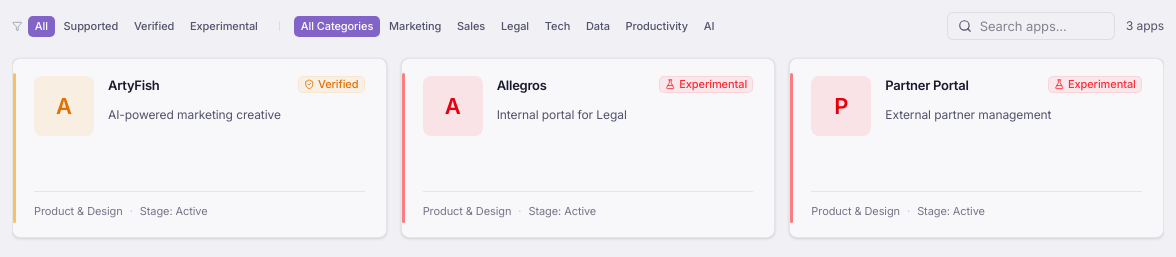
Test: AppBrowse › filters apps by tier
The image size is (1176, 257).
Click the button "Verified" at {"x": 154, "y": 26}, box [127,16,181,36]
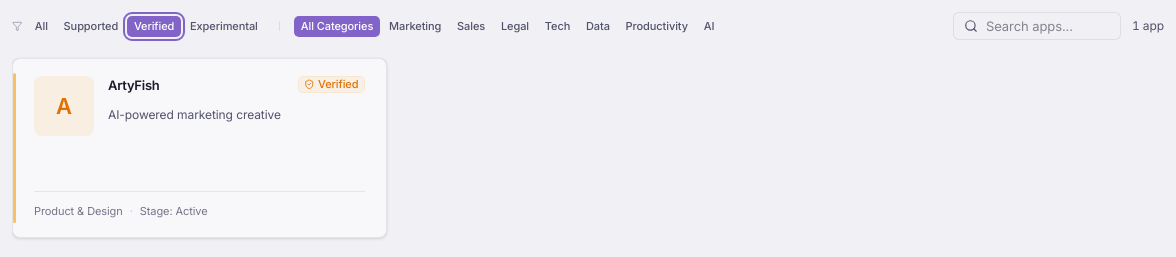
Check: the heading "ArtyFish" is shown, box [108,76,160,94]
Check: the link "Allegros" is gone
